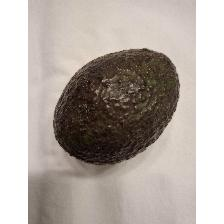Avocado: (52, 44, 182, 168)
